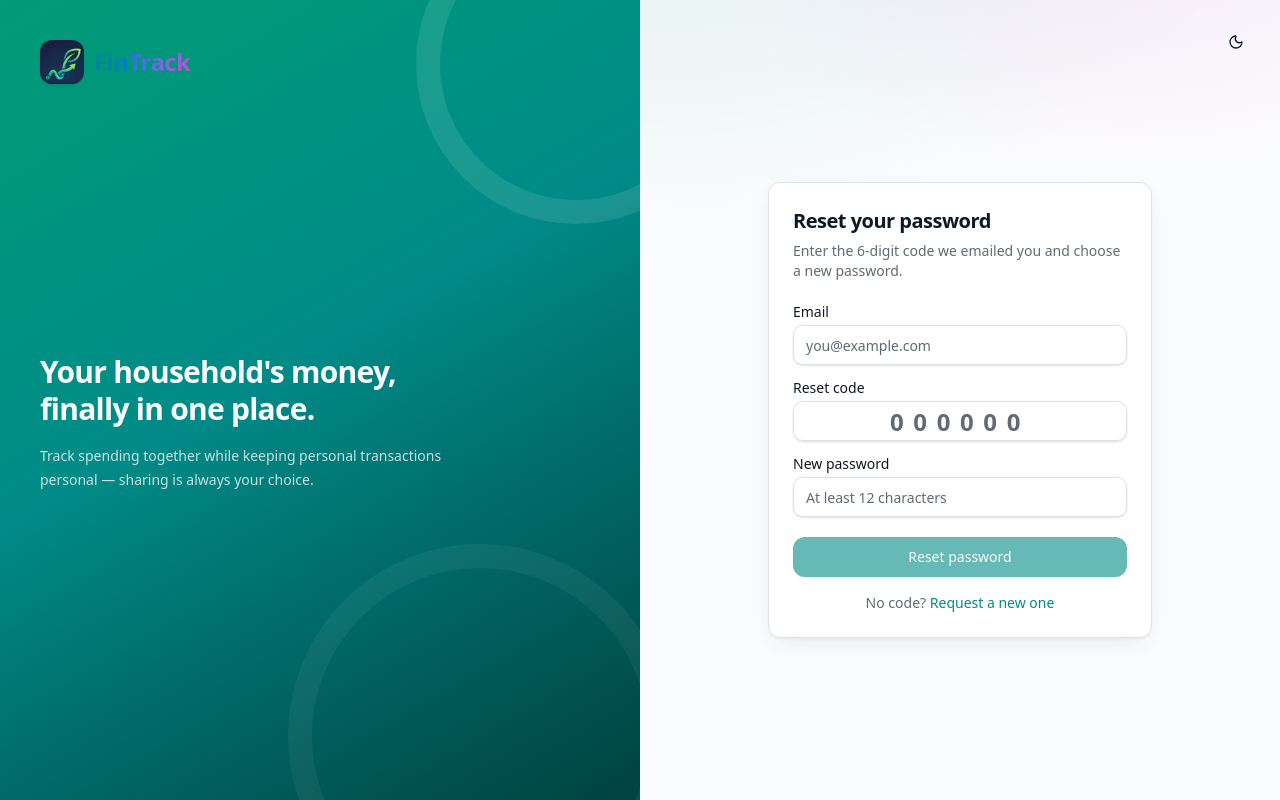
Test: ResetPasswordPage › blocks short passwords client-side
Type "jane@example.com" into the field labelled "Email".
click(960, 345); type("jane@example.com")  # box [793,325,1127,365]
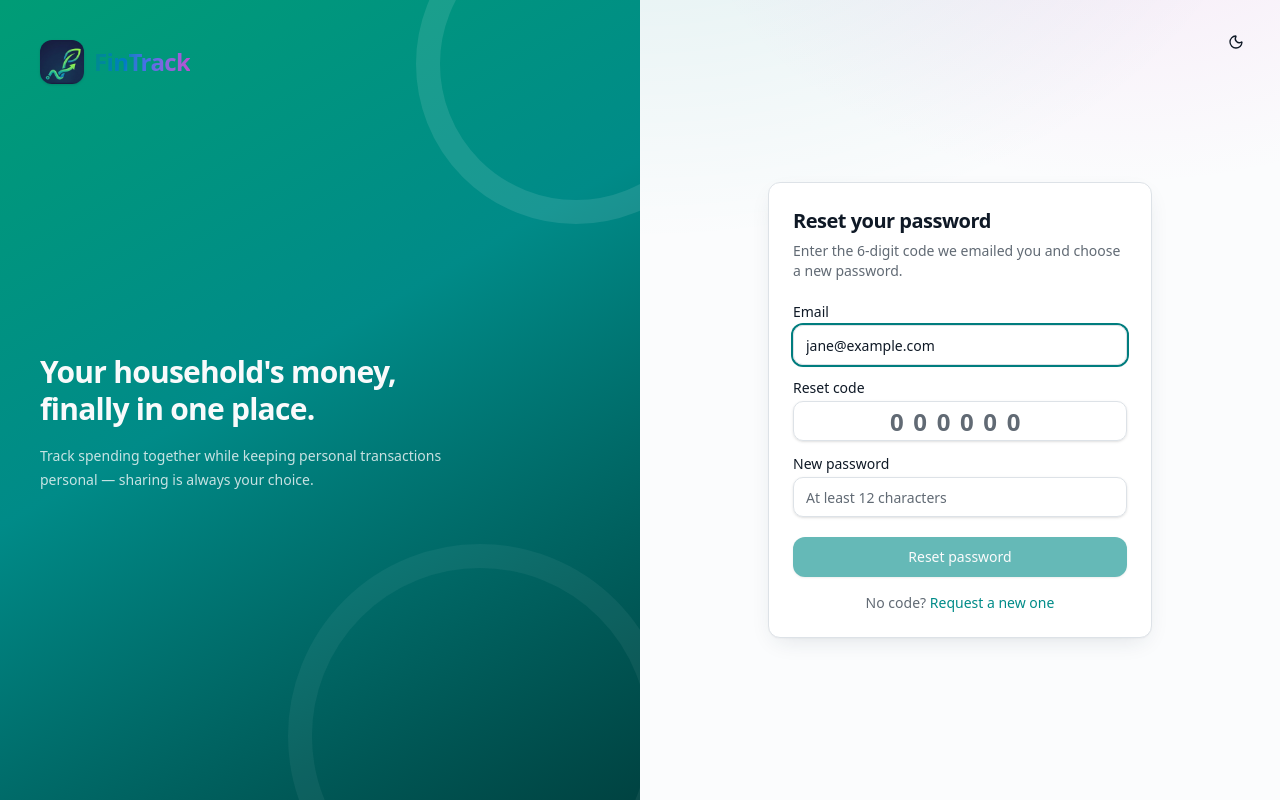
Type "123456" into the field labelled "Reset code".
click(960, 421); type("123456")  # box [793,401,1127,441]
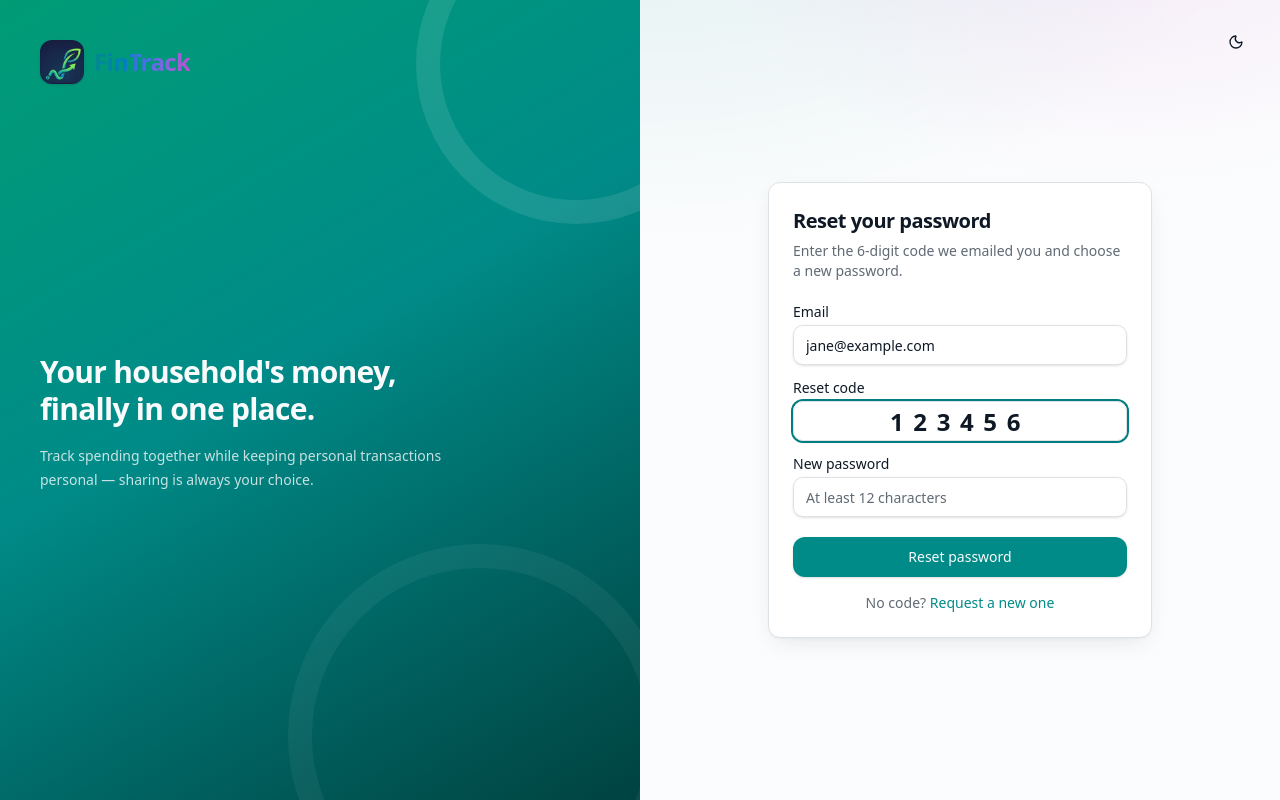
Type "short" into the password field labelled "New password".
click(960, 497); type("short")  # box [793,477,1127,517]
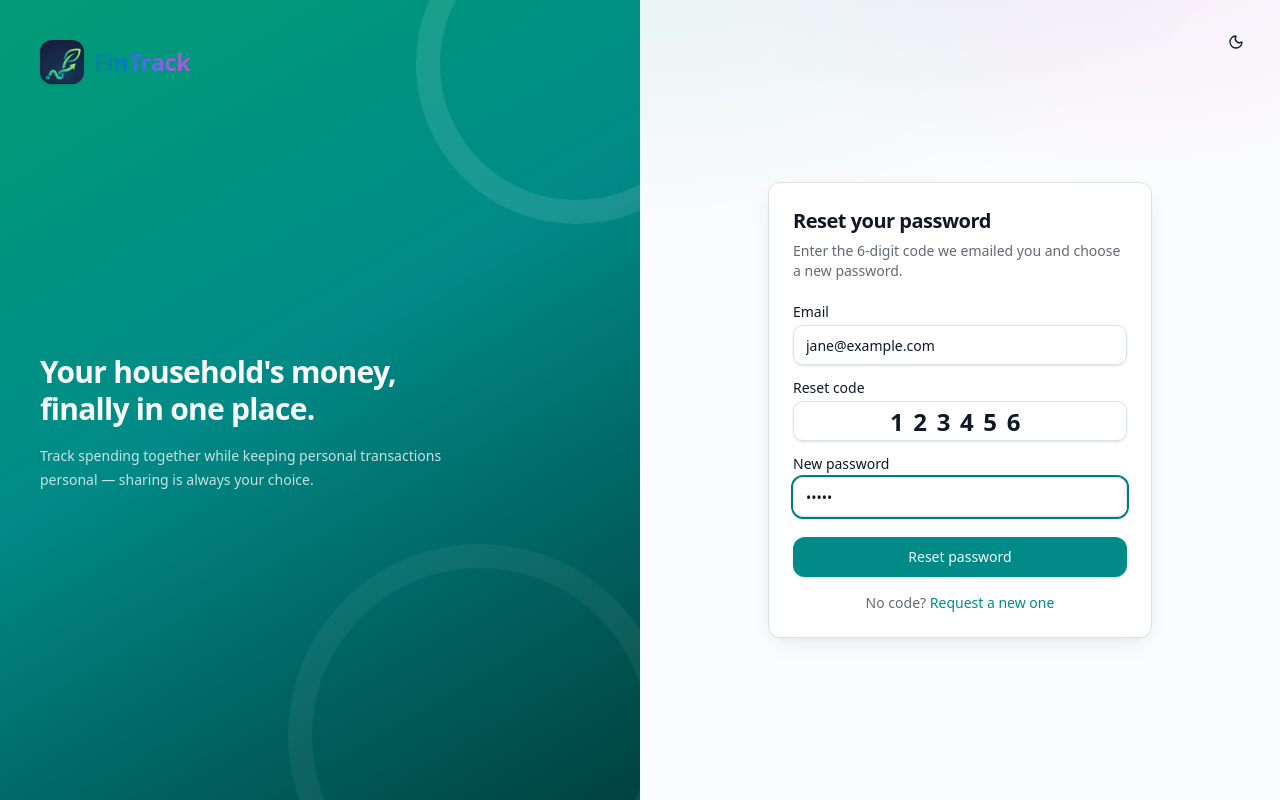
Click the button "Reset password".
click(960, 557)  # box [793,537,1127,577]
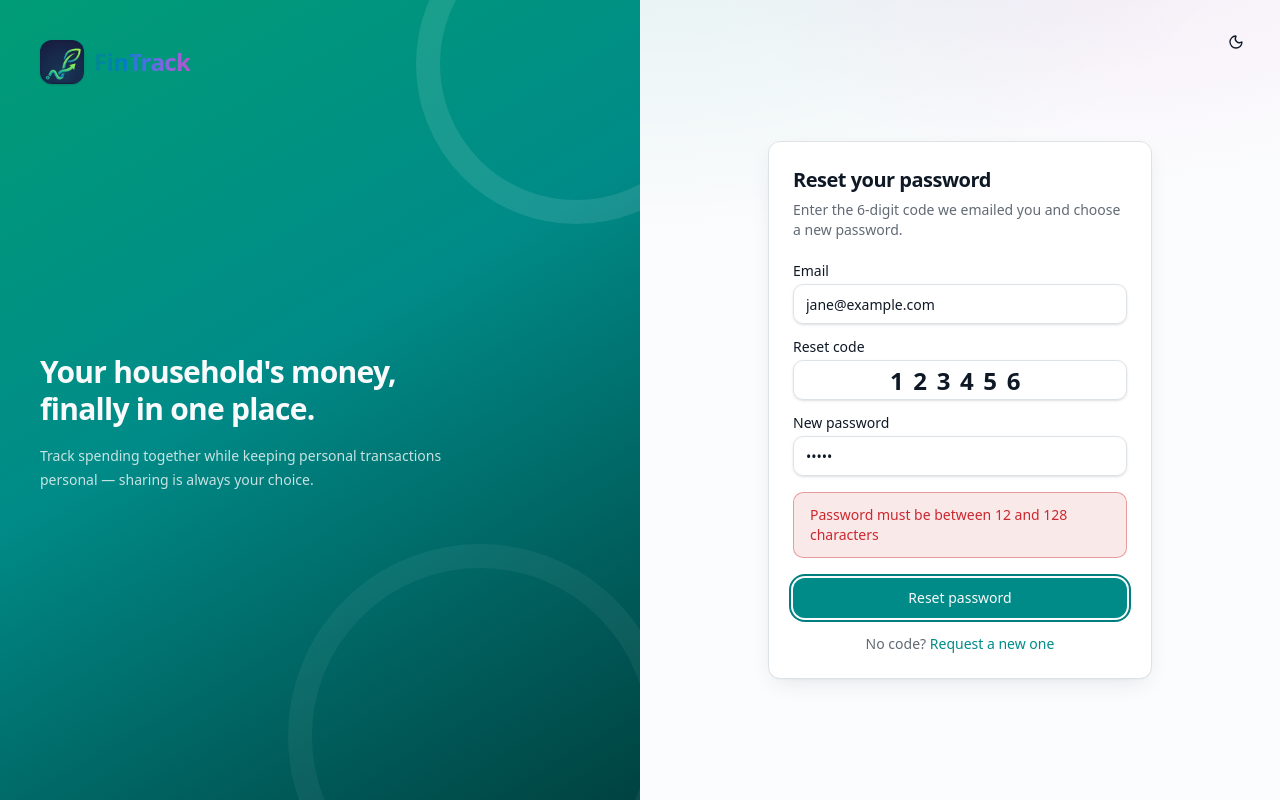
Now the text "Password must be between 12 and 128 characters" is shown, box [793,492,1127,558]
